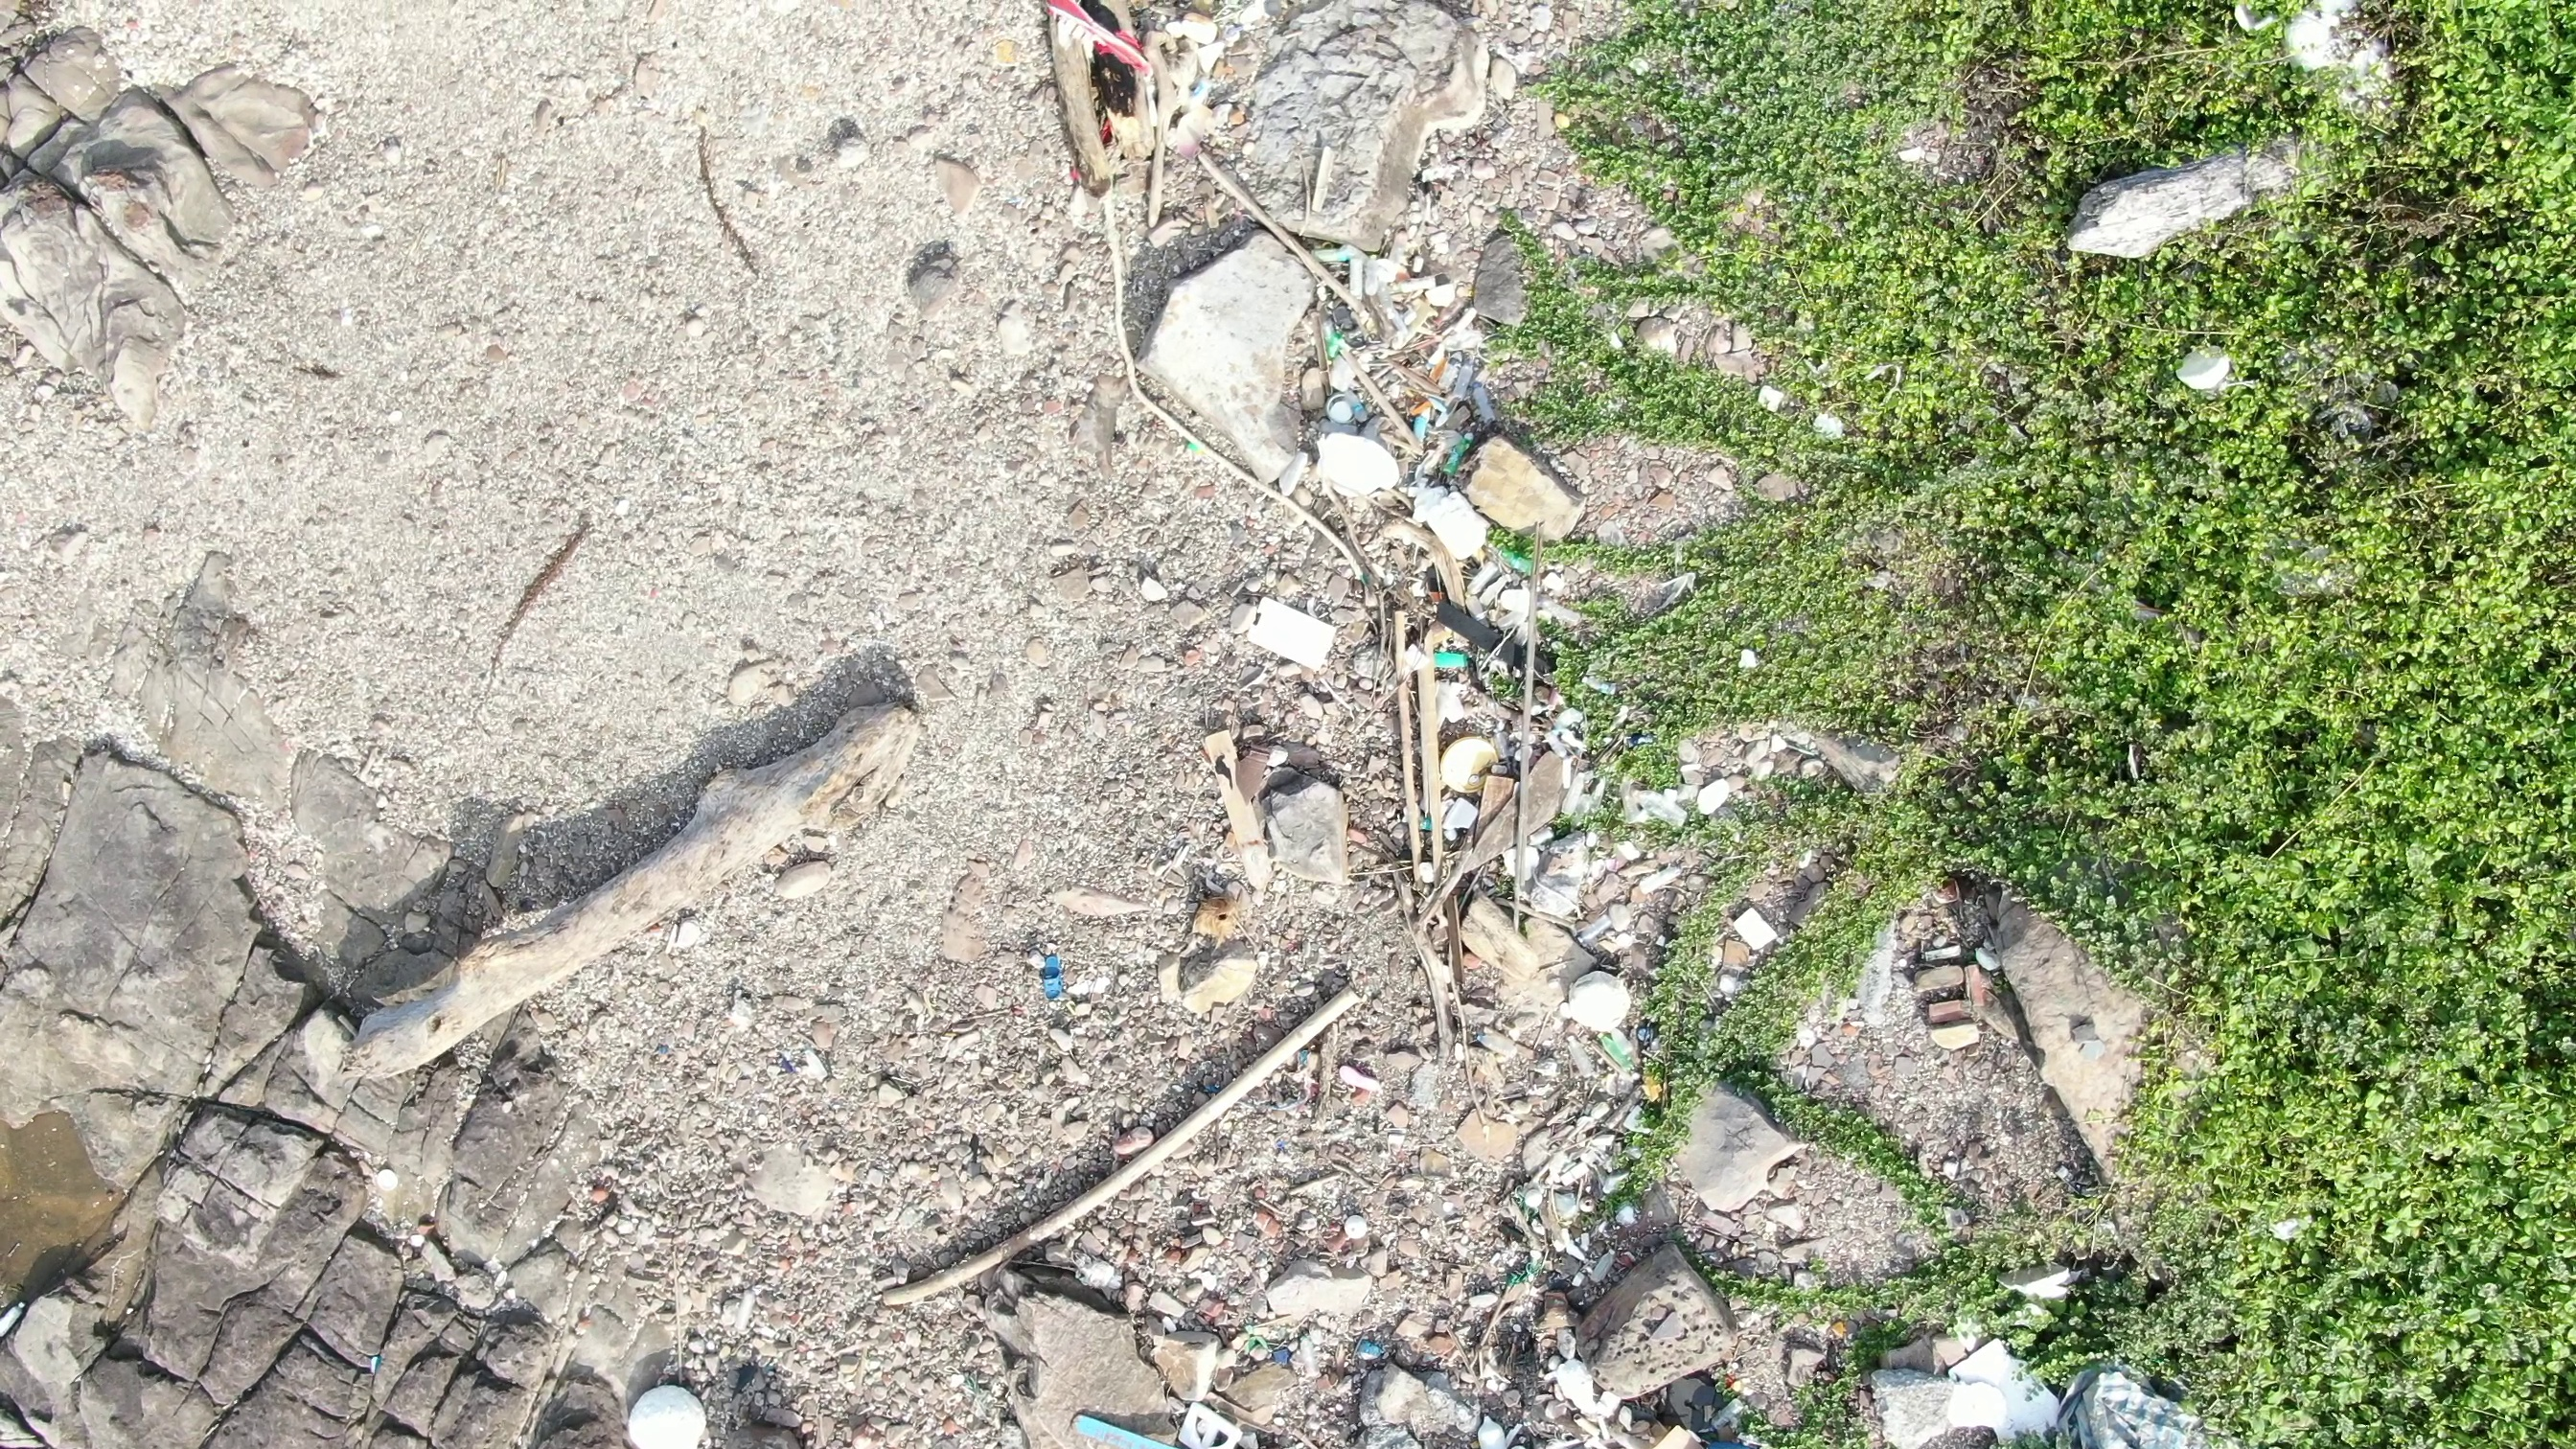garbage: (1428, 547, 1594, 883), (1017, 11, 1286, 212), (1307, 239, 1513, 499), (1851, 1307, 2226, 1449), (1612, 1366, 1799, 1449), (1040, 1392, 1240, 1449), (1260, 1325, 1401, 1369), (1592, 1026, 1658, 1122), (1019, 945, 1067, 1008)
